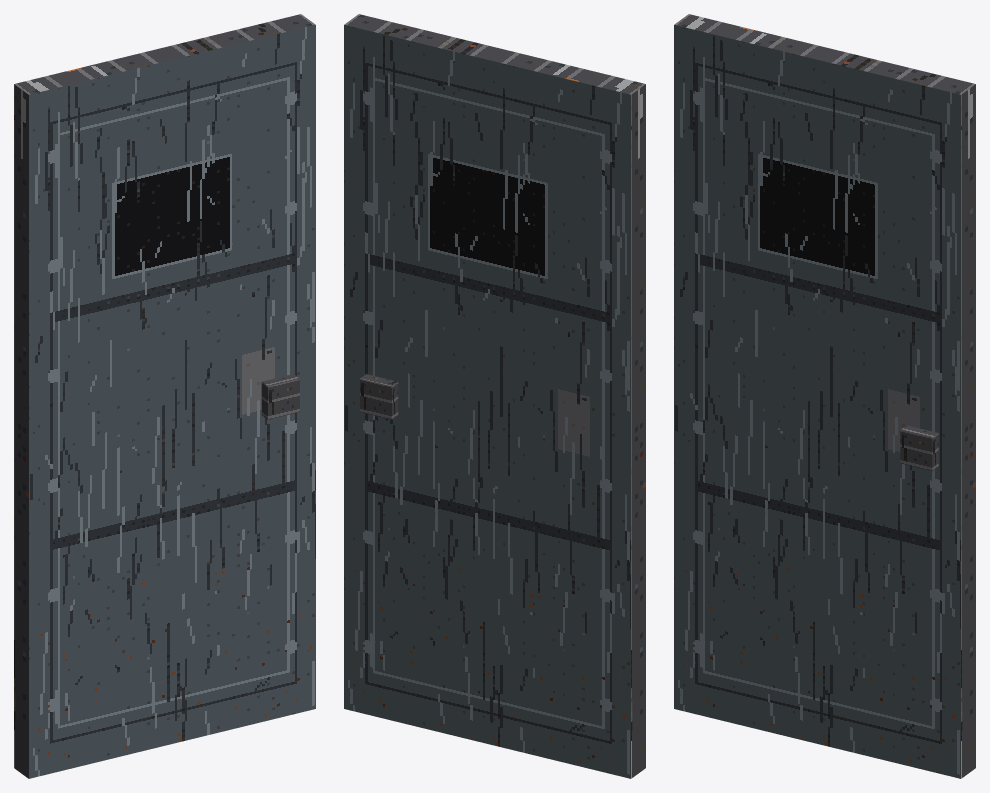
File: SM_Env_DoorMetal_01.glb
3 views of the same model, side by side, from view 1: azimuth 30°, elevation 25°; view 2: azimuth 150°, elevation 25°; view 3: azimuth 330°, elevation 25° (orthographic).
Parts seen in each view (by area): view 1: SM_Env_DoorMetal_01; view 2: SM_Env_DoorMetal_01; view 3: SM_Env_DoorMetal_01.
Part boxes in pixels (left/top/right/bottom): SM_Env_DoorMetal_01: left=14, top=14, right=315, bottom=778; SM_Env_DoorMetal_01: left=344, top=14, right=645, bottom=778; SM_Env_DoorMetal_01: left=674, top=14, right=975, bottom=778.
Bounding box in the file's own units: 0.9 × 2.05 × 0.15.
1 material, 1 textured.
